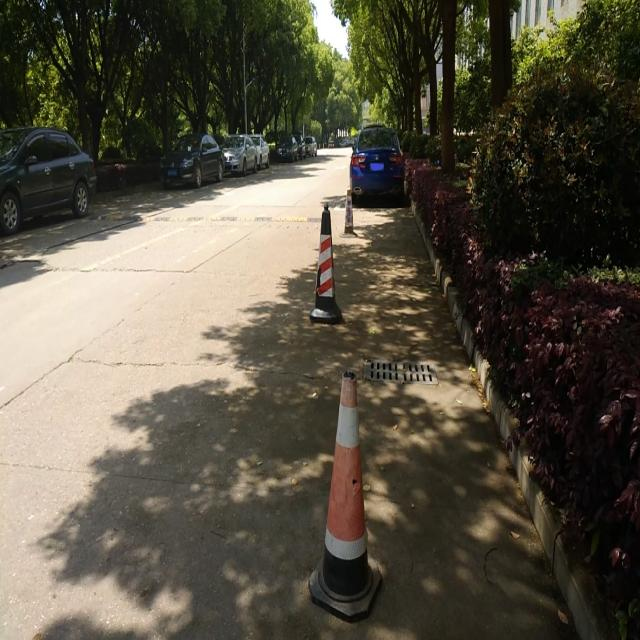car: (1, 126, 97, 234), (349, 125, 405, 204), (158, 131, 225, 188), (223, 133, 258, 174), (251, 133, 270, 167), (276, 134, 298, 162), (304, 135, 317, 157)
pole: (242, 35, 247, 132)
reflective_cone: (311, 368, 383, 616), (311, 200, 341, 320), (341, 188, 357, 236)
